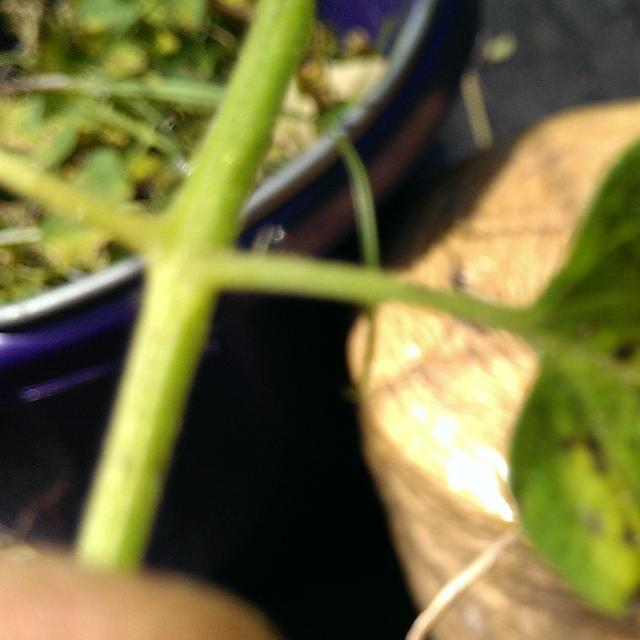Tomato Septoria leaf spot: (471, 113, 640, 640)
